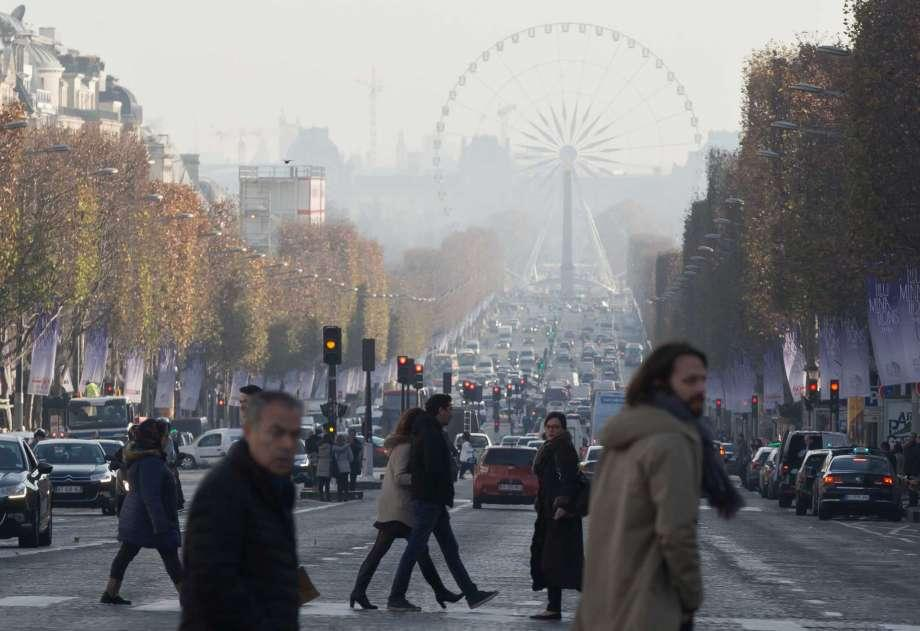bus: (589, 389, 654, 464), (65, 398, 134, 467), (382, 389, 425, 440), (544, 385, 572, 417), (433, 353, 459, 387), (456, 348, 475, 373), (624, 343, 643, 367), (497, 325, 512, 349)
car: (766, 431, 860, 508), (29, 439, 120, 515), (816, 446, 900, 522), (1, 433, 56, 549), (808, 448, 886, 516), (472, 445, 545, 509), (790, 449, 860, 515), (178, 429, 273, 470), (757, 448, 820, 499), (68, 439, 129, 490), (576, 444, 639, 491), (744, 447, 788, 492), (450, 432, 494, 471), (524, 441, 562, 484), (274, 437, 313, 474), (514, 436, 545, 475), (498, 436, 531, 469), (524, 433, 554, 469), (460, 400, 489, 421), (544, 401, 568, 421), (598, 380, 617, 397), (478, 358, 494, 376), (519, 347, 535, 364), (466, 340, 480, 356)
person: (574, 340, 709, 631), (181, 389, 303, 629), (386, 392, 500, 612), (349, 406, 467, 613), (223, 385, 321, 605), (99, 416, 197, 605), (528, 410, 603, 620), (343, 428, 365, 501), (331, 434, 354, 501), (25, 427, 49, 491), (902, 432, 920, 510), (877, 441, 896, 510), (316, 434, 335, 501), (890, 444, 908, 510), (735, 434, 751, 488), (459, 432, 476, 479), (749, 439, 765, 484)
